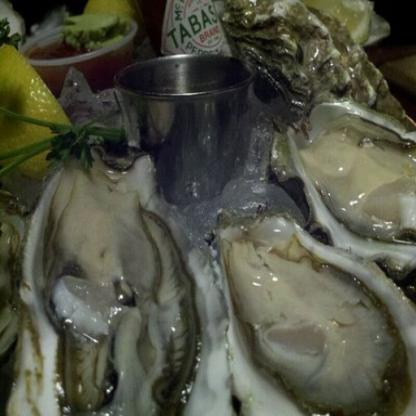oyster: (21, 151, 217, 415), (216, 207, 415, 415), (268, 101, 415, 268)
